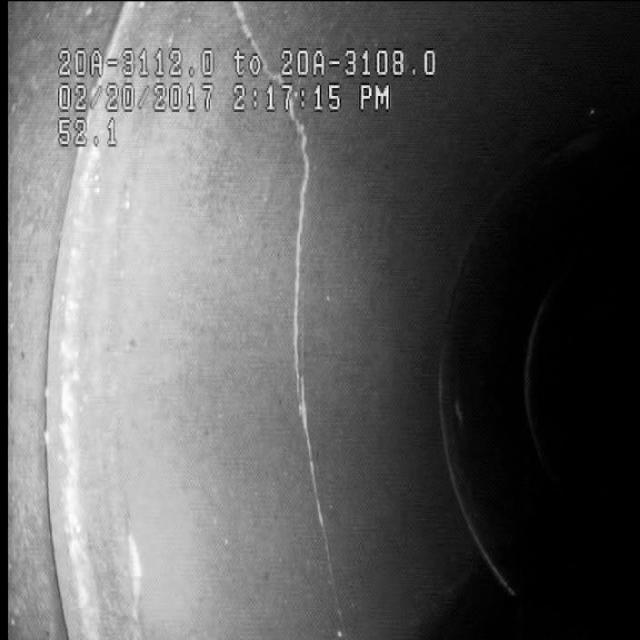Crack: (264, 141, 354, 569)
